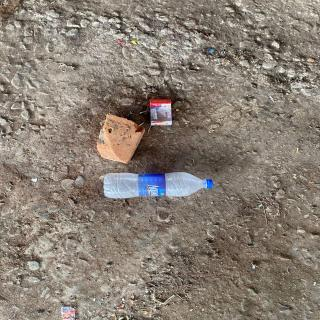Plastic-bottle: (102, 169, 216, 203)
